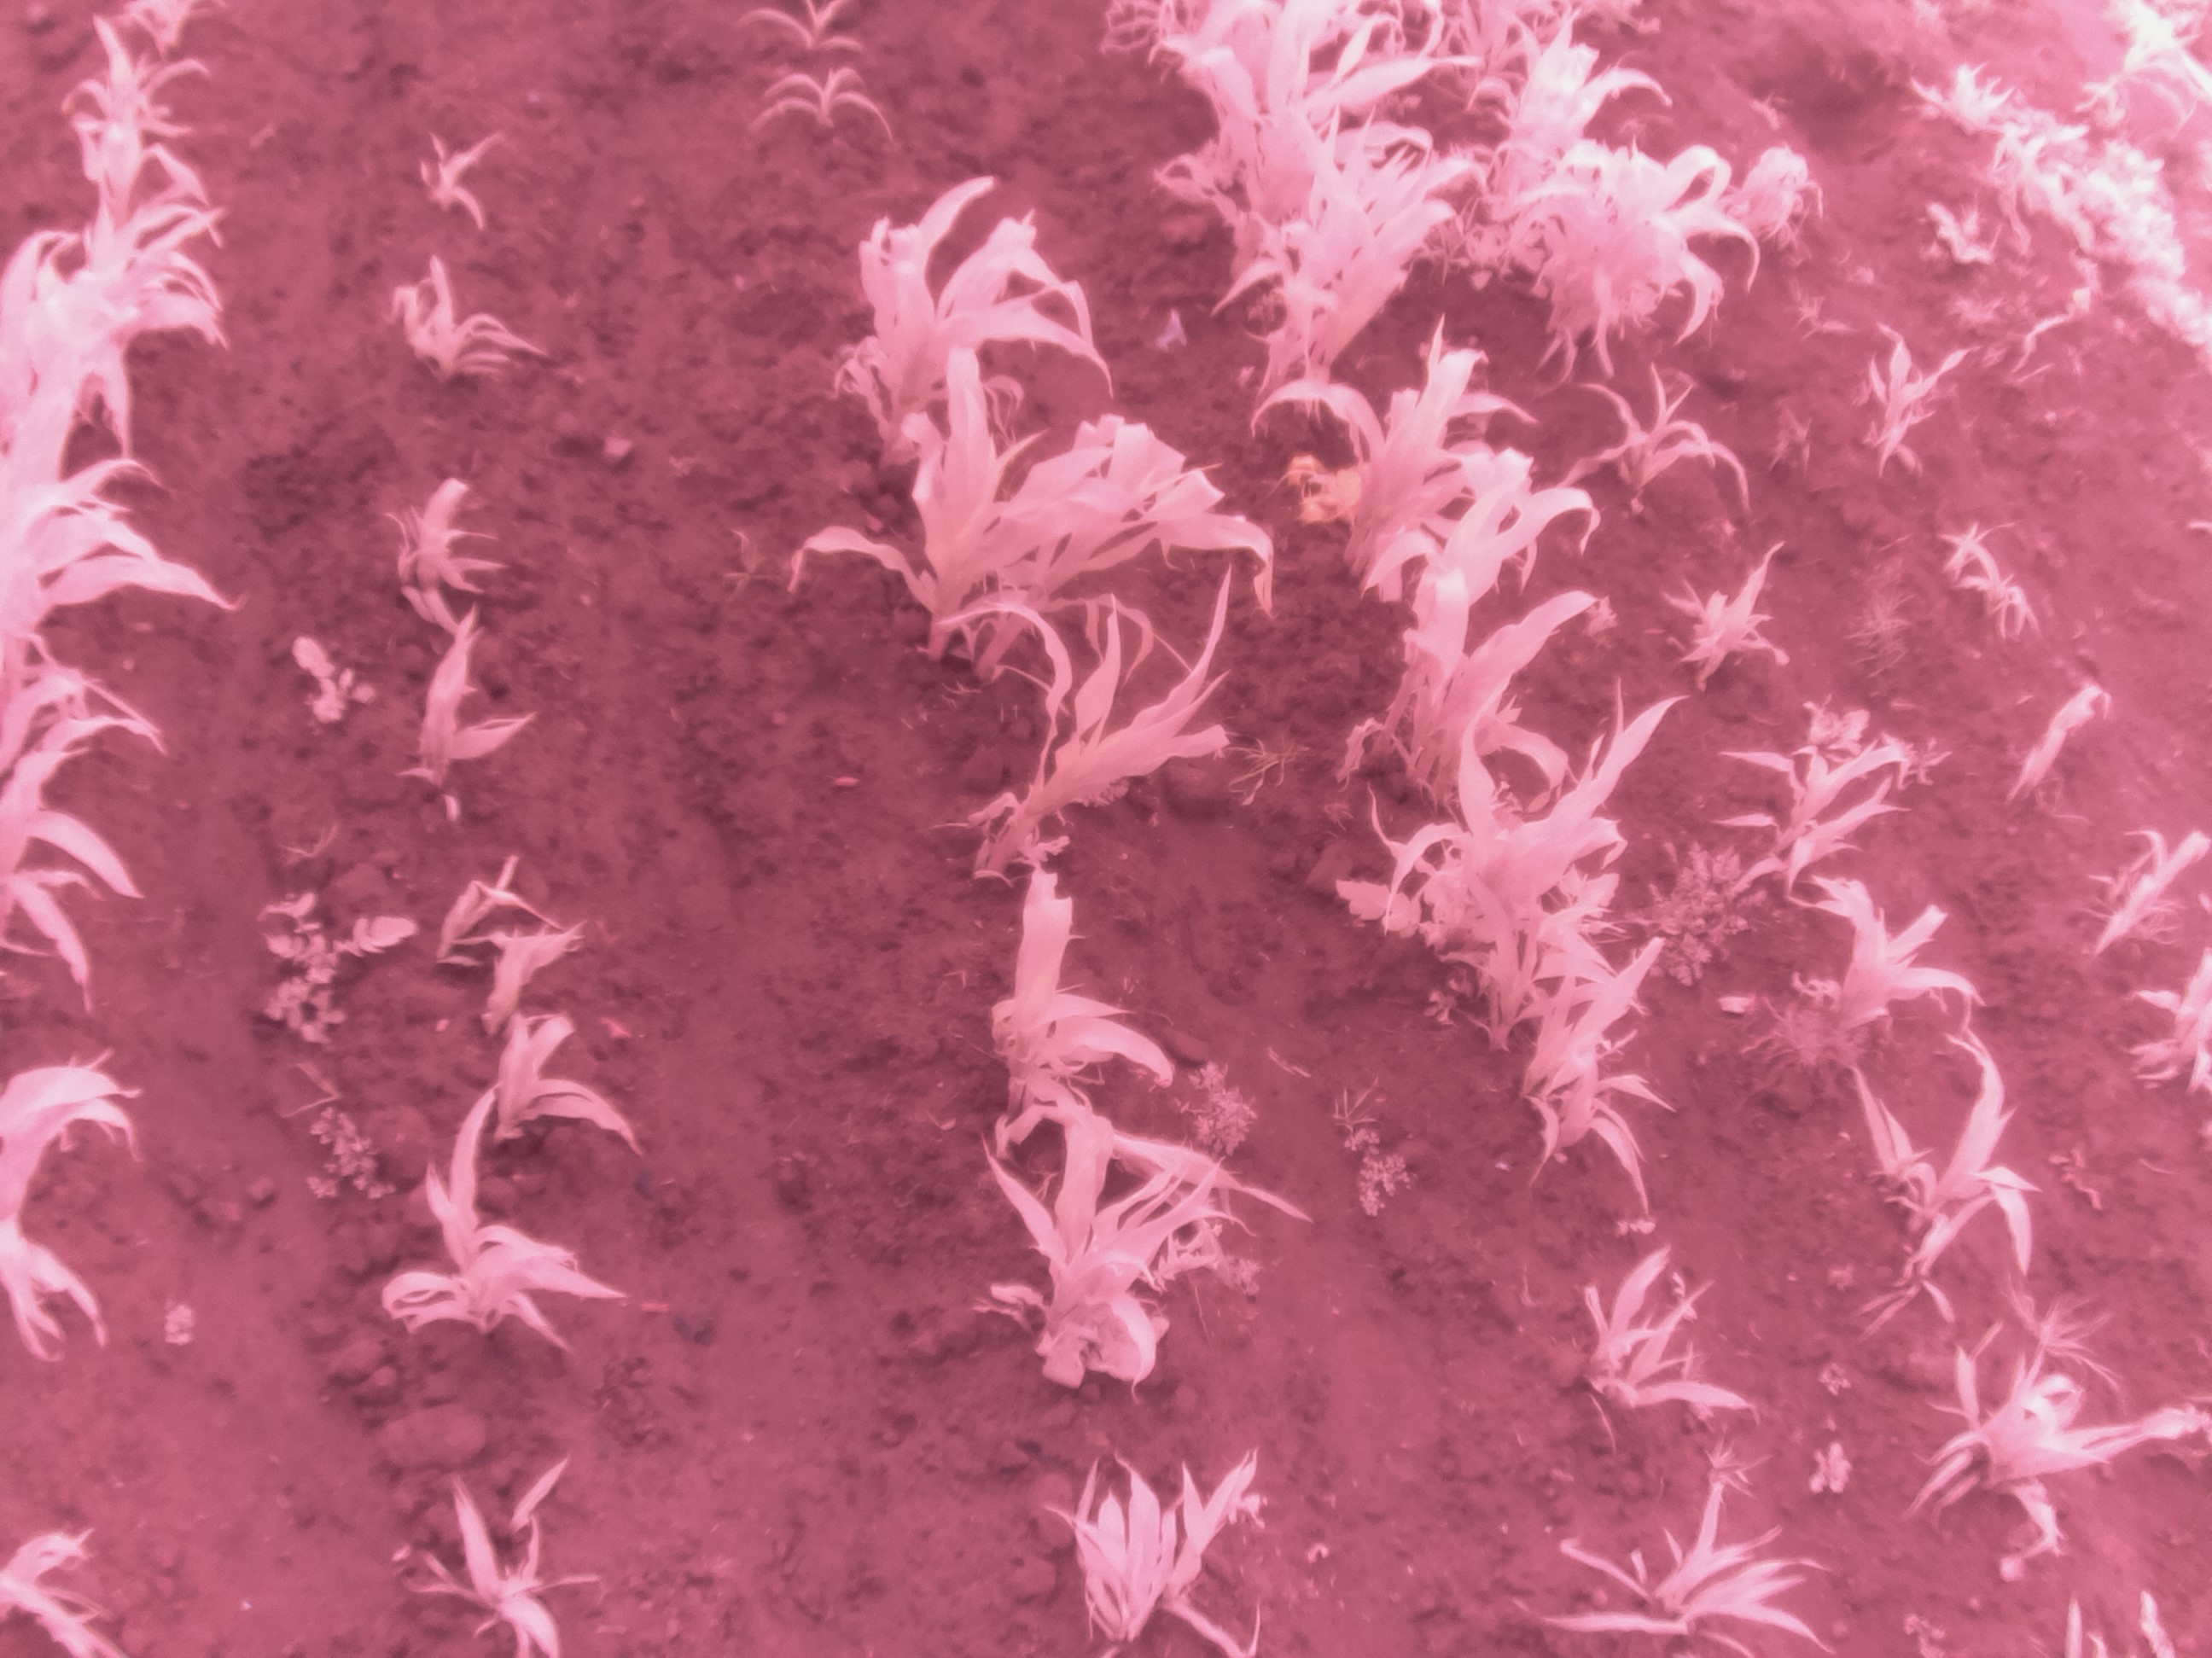Maiz: (780, 155, 1123, 455), (799, 350, 1125, 651), (970, 381, 1275, 702), (932, 601, 1264, 873), (1170, 23, 1470, 312), (1420, 730, 1662, 1061), (1925, 1311, 2209, 1592), (1256, 296, 1531, 585), (970, 1116, 1224, 1412), (0, 312, 199, 688), (354, 1101, 618, 1369), (941, 869, 1176, 1141), (1519, 1465, 1853, 1653), (0, 193, 239, 453), (1258, 150, 1461, 437), (1406, 442, 1597, 728), (0, 665, 167, 982), (1482, 3, 1669, 284), (1371, 535, 1548, 826), (1536, 136, 1750, 376), (1841, 1068, 2059, 1299), (0, 1026, 148, 1360), (1050, 1461, 1289, 1655), (380, 1468, 613, 1658), (1787, 843, 1963, 1082), (52, 56, 219, 289), (1531, 947, 1670, 1221), (1547, 357, 1763, 531), (1723, 697, 1897, 911), (1580, 1231, 1743, 1454), (368, 608, 542, 812), (462, 1014, 651, 1176), (366, 449, 516, 637), (368, 233, 538, 394), (395, 838, 542, 993), (1660, 550, 1794, 704), (1851, 312, 1966, 482), (2081, 806, 2212, 951), (455, 909, 592, 1043), (2003, 667, 2120, 819), (0, 1496, 118, 1644), (732, 70, 902, 162), (2139, 913, 2212, 1083), (404, 101, 498, 233), (1905, 57, 2022, 164), (2107, 0, 2212, 117), (1902, 162, 2000, 280), (1979, 120, 2074, 225), (1939, 559, 2057, 641), (723, 0, 871, 57), (1937, 502, 2019, 580)
